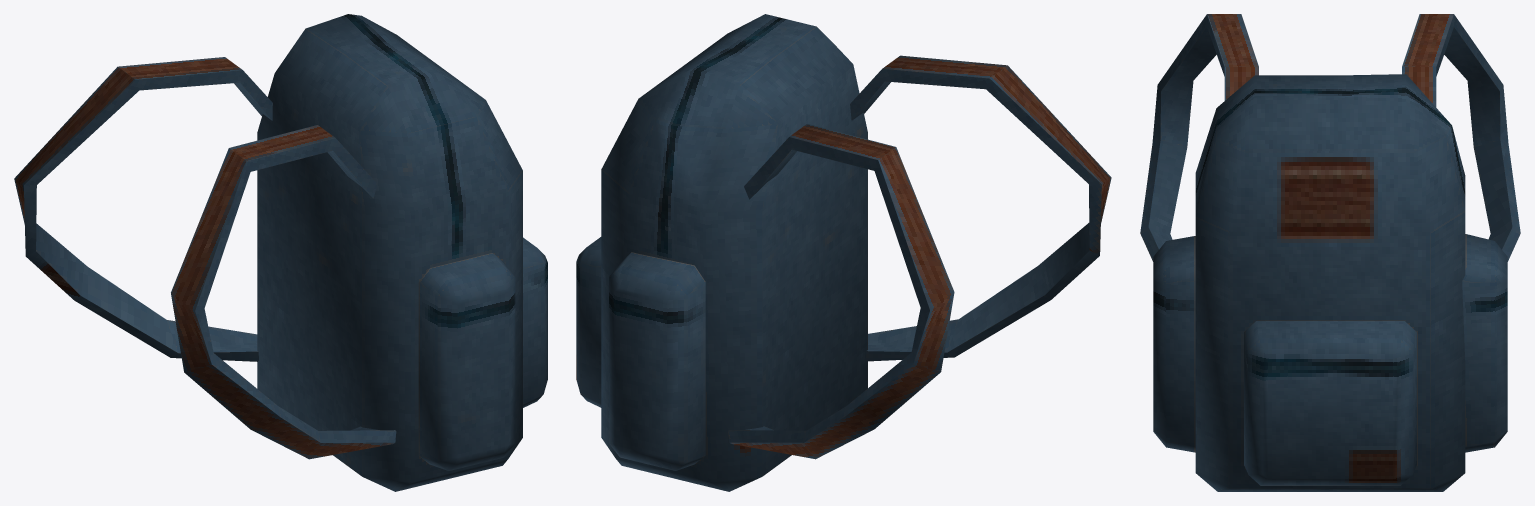
File: backpack_rucksack.glb
The picture shows the model from 3 angles, left to right: view 1: azimuth 30°, elevation 25°; view 2: azimuth 150°, elevation 25°; view 3: azimuth 270°, elevation 25°; orthographic projection. The views are drawn at different scales.
Parts seen in each view (by area): view 1: origin; view 2: origin; view 3: origin.
Boxes of the visible parts, x1,y1,x2,y2 form: origin: (14, 14, 547, 491); origin: (576, 14, 1111, 491); origin: (1140, 14, 1520, 491).
Size of the model in its own units: 0.8821 by 0.7995 by 0.733.
Materials: 1 (1 with a texture image).
